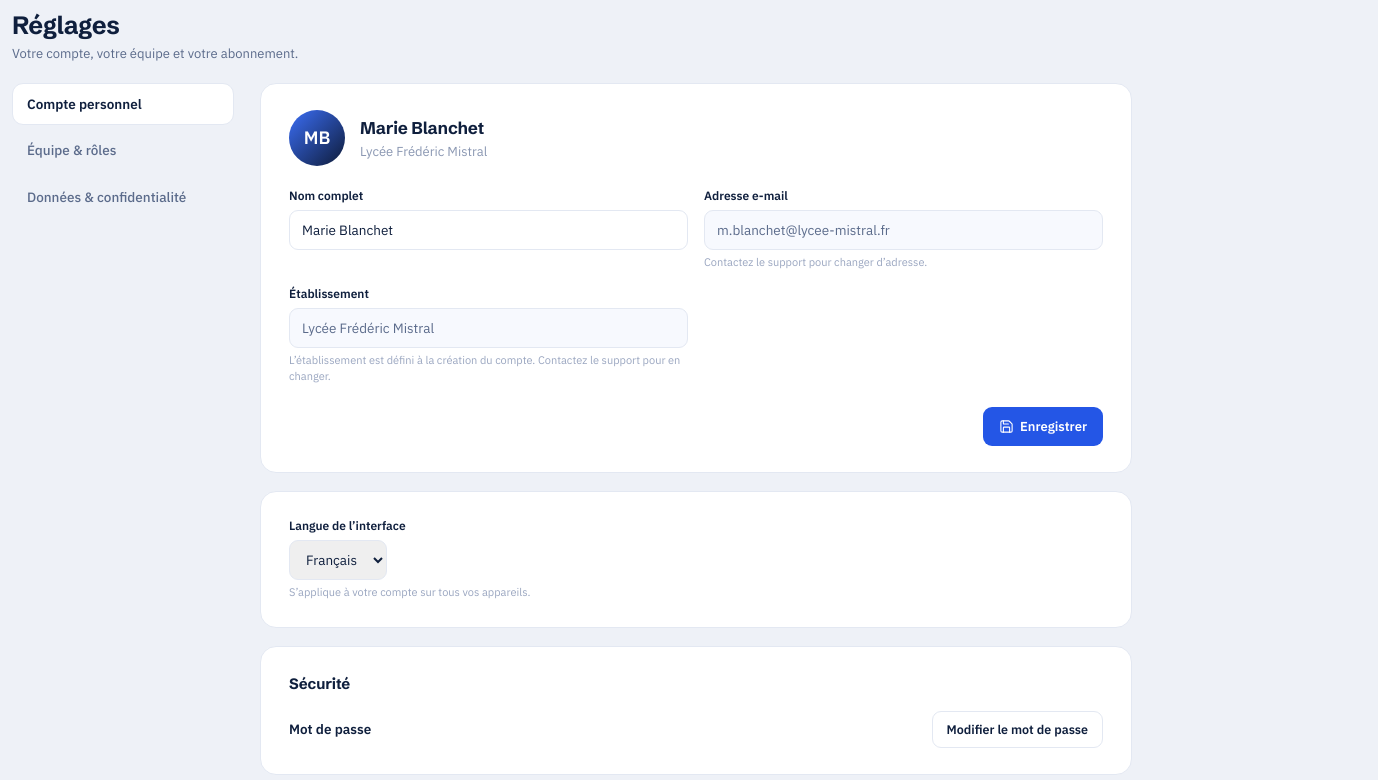
Test case: SettingsView — Compte › shows the message of a structured save failure
The width and height of the screenshot is (1378, 780).
Step 1. Click the button "Enregistrer" → coordinates (1043, 426), box 983,406 -> 1103,446
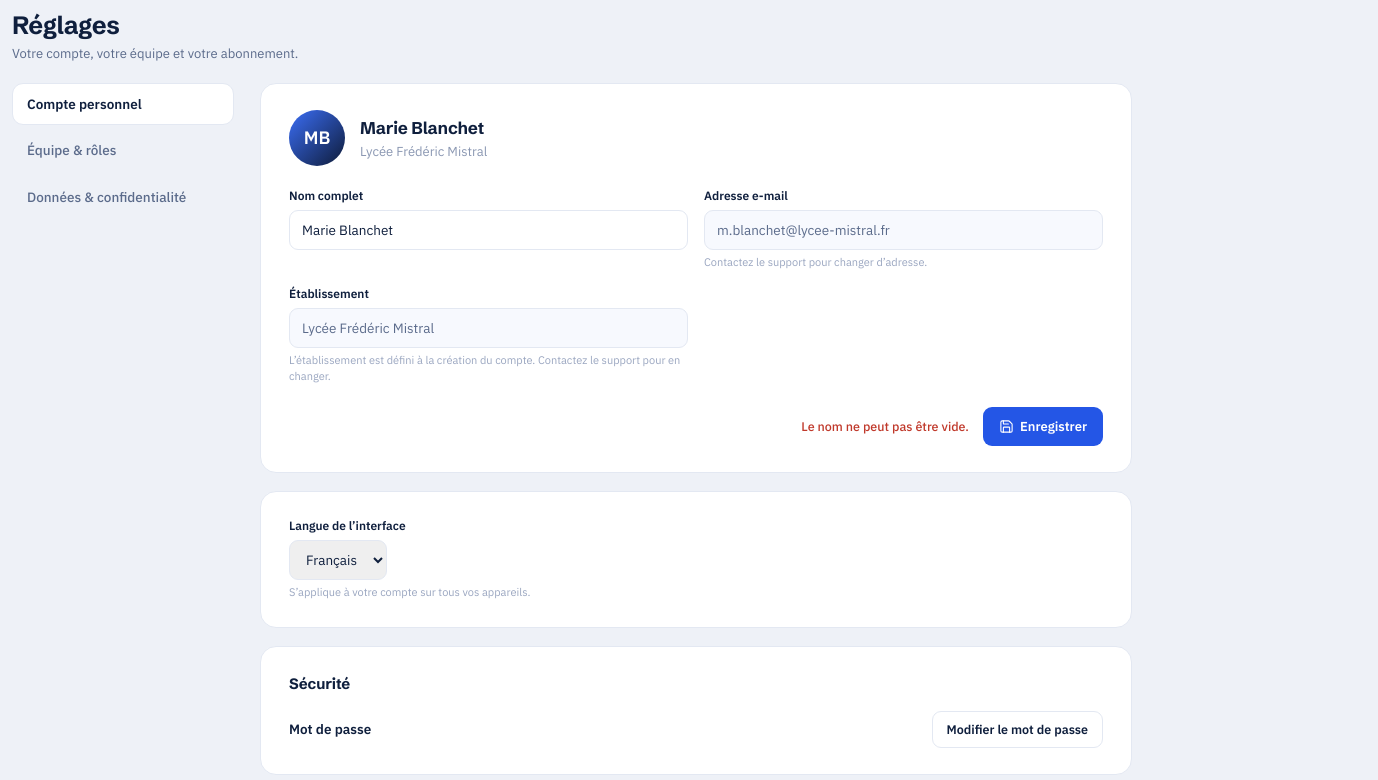
Expected: the text "Le nom ne peut pas être vide." is shown, 801,417 -> 969,436
